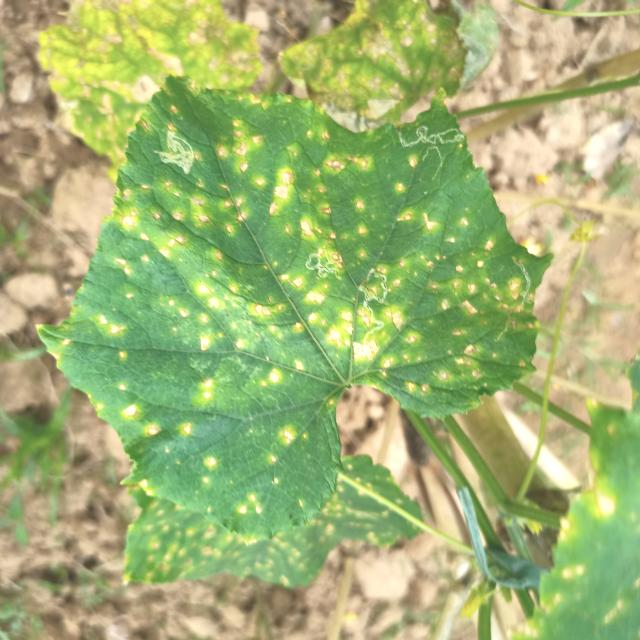disease_cucumber: (74, 115, 535, 404), (179, 372, 222, 434), (267, 421, 296, 486), (118, 400, 161, 443), (197, 448, 220, 492), (234, 488, 263, 517)
